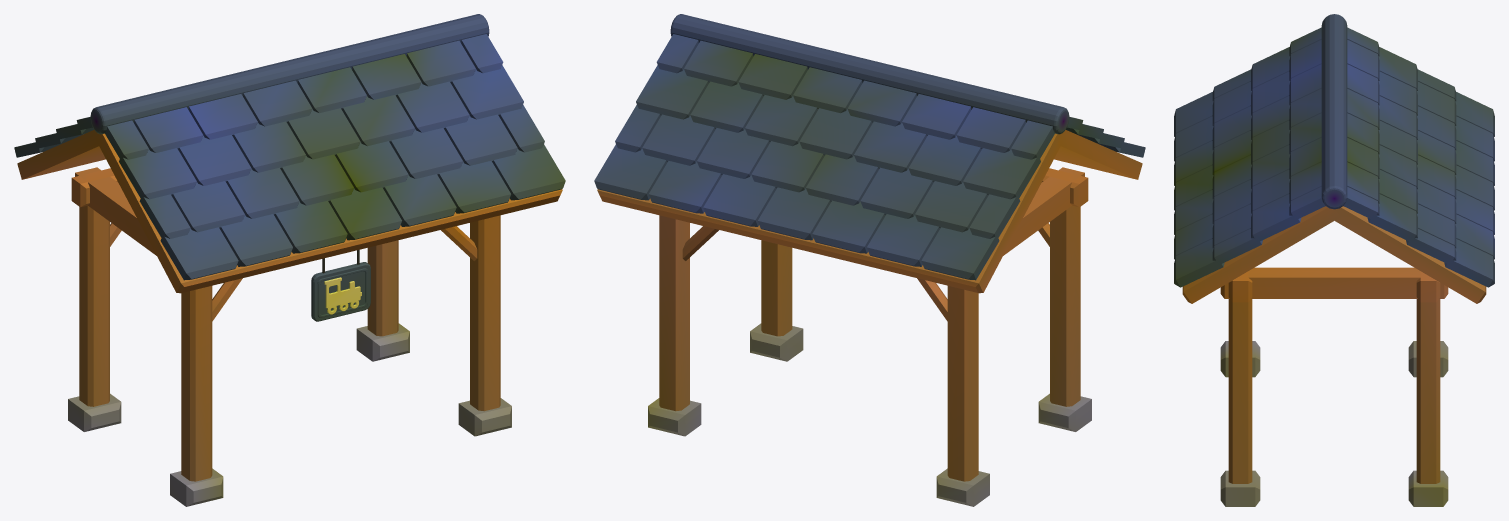
Rendered from Prop_Shelter.glb.
3 renders of one model, left to right at view 1: azimuth 30°, elevation 25°; view 2: azimuth 150°, elevation 25°; view 3: azimuth 270°, elevation 25°, orthographic. The views are drawn at different scales.
Parts seen in each view (by area): view 1: Prop_Shelter; view 2: Prop_Shelter; view 3: Prop_Shelter.
Part boxes in pixels (box(x1,y1,x2,y2)): Prop_Shelter: box(14, 14, 565, 506); Prop_Shelter: box(594, 14, 1145, 506); Prop_Shelter: box(1174, 14, 1494, 506).
Size of the model in its own units: 4.16 by 3.72 by 3.24.
